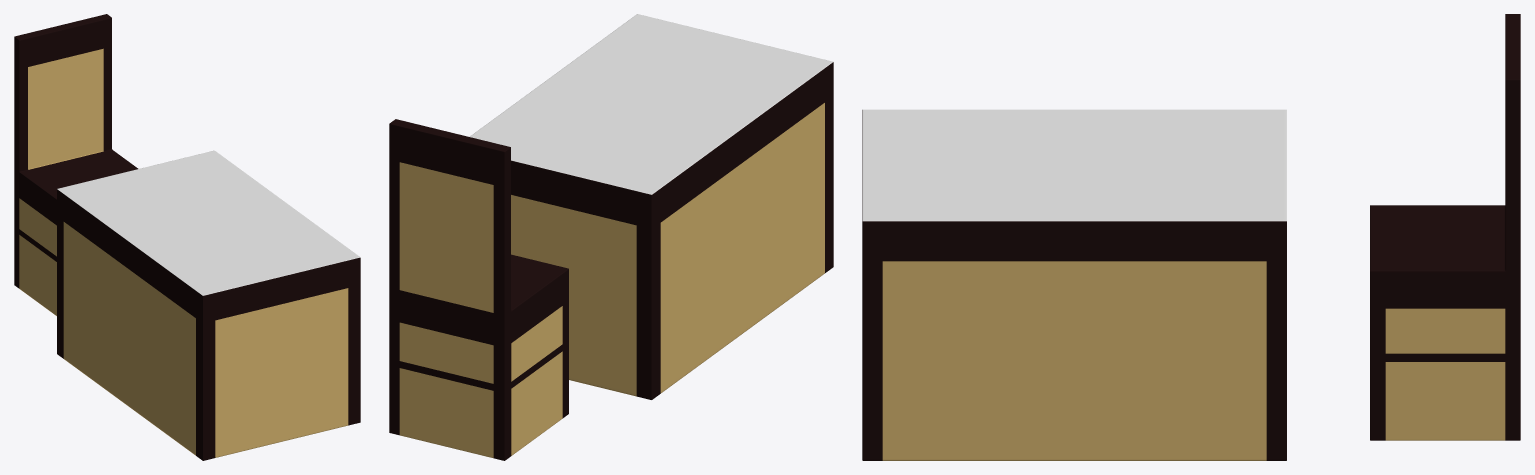
Rendered from Inflating Table Chair.fbx.
3 views of the same model, side by side, from view 1: azimuth 30°, elevation 25°; view 2: azimuth 150°, elevation 25°; view 3: azimuth 270°, elevation 25° (orthographic). The views are drawn at different scales.
Parts seen in each view (by area): view 1: table.009_Pressure20.003, chair.009_Pressure20.003; view 2: table.009_Pressure20.003, chair.009_Pressure20.003; view 3: table.009_Pressure20.003, chair.009_Pressure20.003.
Part boxes in pixels (x1=…): table.009_Pressure20.003: x1=57, y1=150, x2=360, y2=460; chair.009_Pressure20.003: x1=14, y1=14, x2=138, y2=315; table.009_Pressure20.003: x1=469, y1=14, x2=833, y2=399; chair.009_Pressure20.003: x1=389, y1=119, x2=568, y2=460; table.009_Pressure20.003: x1=862, y1=109, x2=1286, y2=460; chair.009_Pressure20.003: x1=1370, y1=14, x2=1520, y2=440.
Size of what is drawn, in the model's own units: 99.13 by 150 by 246.
